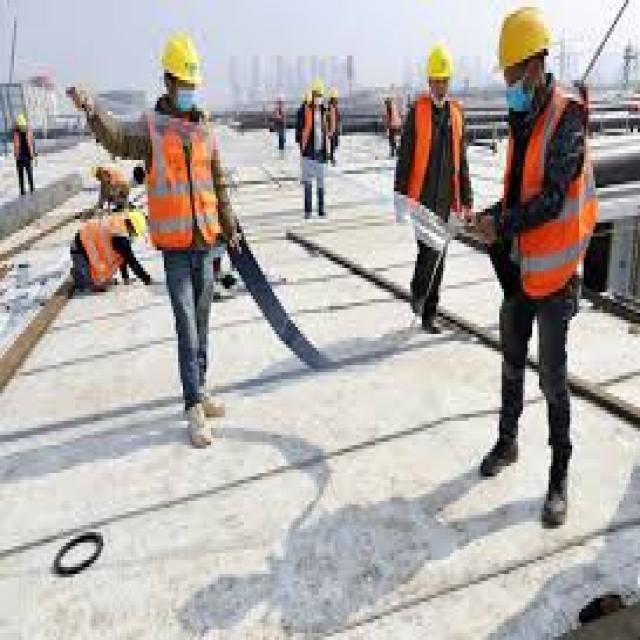Reflective-Jacket: (492, 87, 605, 313), (136, 108, 225, 264), (403, 94, 471, 219), (70, 212, 132, 289), (288, 96, 332, 157), (10, 130, 36, 165)
Safety-Helmet: (487, 0, 562, 83), (155, 24, 211, 94), (418, 35, 460, 90), (122, 205, 152, 247), (304, 73, 327, 107), (16, 111, 29, 134), (329, 81, 344, 99)
